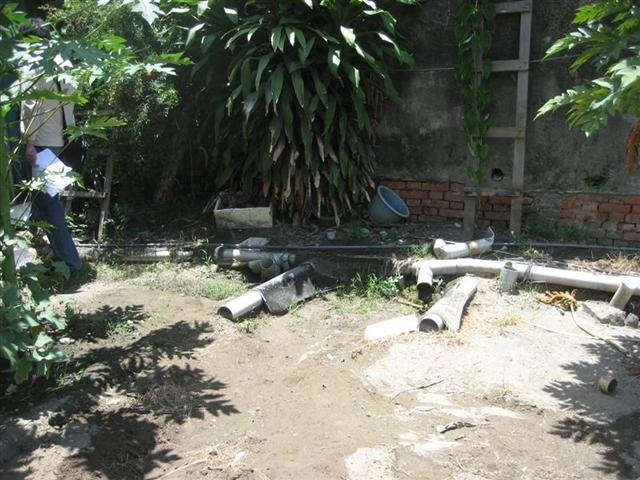bowl: (367, 185, 410, 227)
styrofoam: (212, 188, 276, 230)
